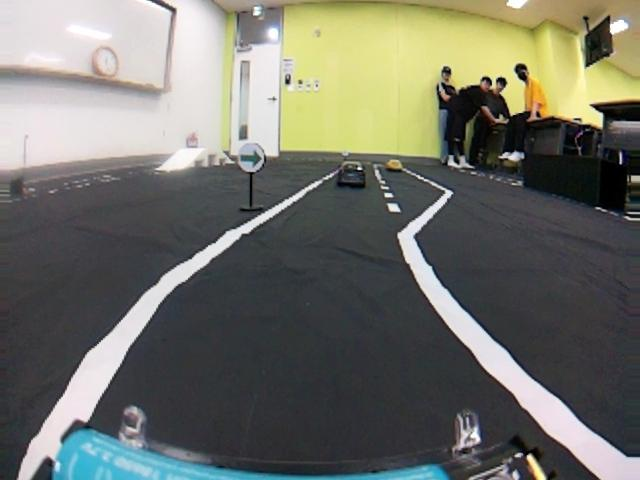car: (335, 161, 366, 188), (387, 159, 404, 171)
sign_right: (237, 141, 266, 174)
straight: (4, 217, 639, 480)
